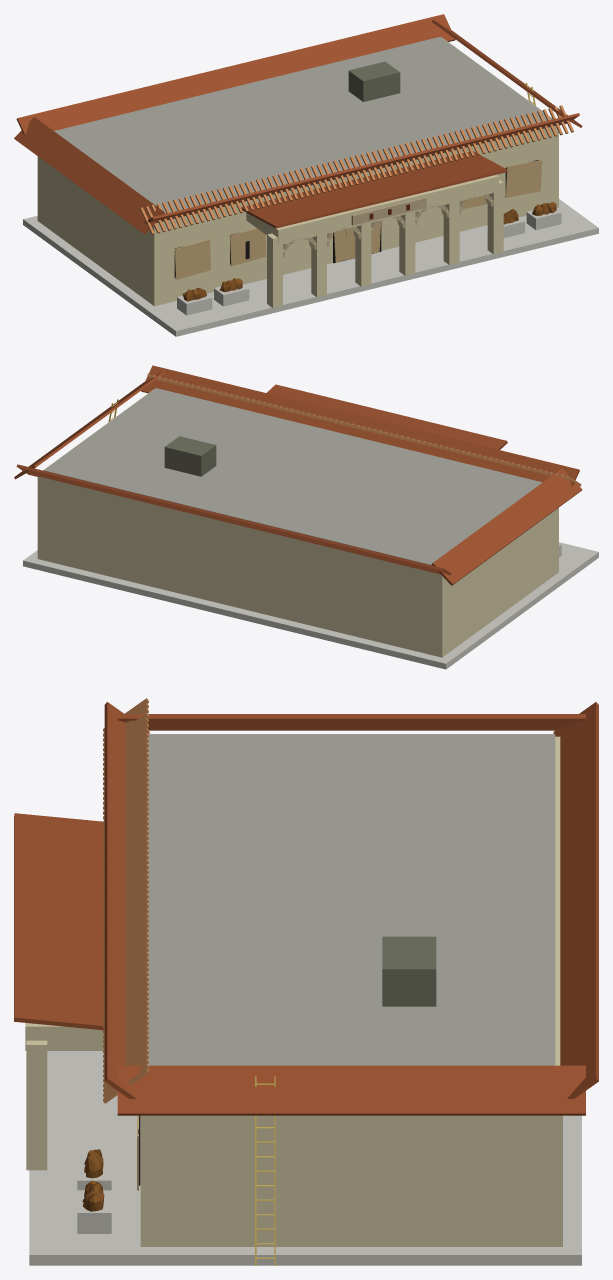
File: golf_clubhouse.glb
3 views of the same model, one above another, from view 1: azimuth 30°, elevation 25°; view 2: azimuth 150°, elevation 25°; view 3: azimuth 270°, elevation 25° (orthographic). The views are drawn at different scales.
Visible parts, largest first — view 1: golf_clubhouse; view 2: golf_clubhouse; view 3: golf_clubhouse.
Part boxes in pixels (<box>): golf_clubhouse: <box>14,14,598,336</box>; golf_clubhouse: <box>14,365,598,669</box>; golf_clubhouse: <box>14,698,598,1265</box>.
Bounding box in the file's own units: 24.12 × 5.95 × 15.23.
